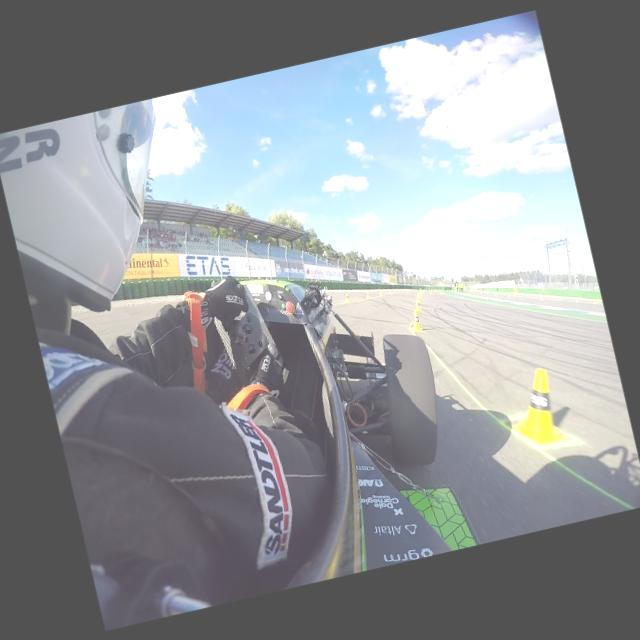yellow_cone: (508, 365, 567, 448), (408, 310, 424, 333), (342, 292, 349, 304), (415, 298, 421, 309), (364, 291, 369, 299), (416, 292, 421, 300), (378, 290, 382, 296)
